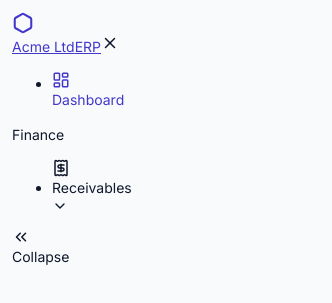
Test: Sidebar › filters children within a permitted group and expands on click
This screenshot has width=332, height=303.
Click the button "Receivables": (92, 186) [52,159,132,214]
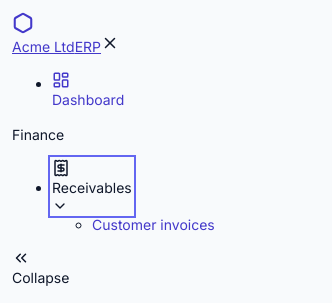
Check: the link "Customer invoices" is shown, box [92,216,215,233]
